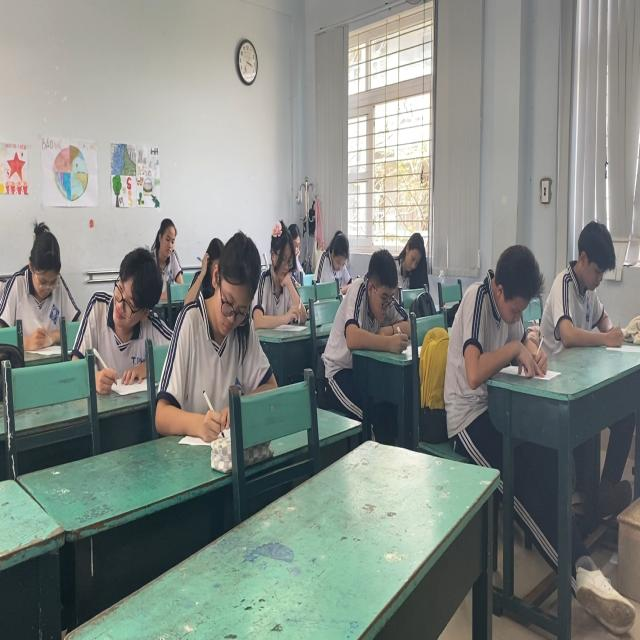cheating: (74, 243, 172, 384)
not_cheating: (176, 233, 270, 426), (454, 247, 548, 377), (550, 212, 629, 350), (11, 218, 79, 343), (348, 250, 410, 344), (262, 212, 308, 326), (145, 198, 190, 294), (394, 225, 431, 285), (310, 232, 348, 285)
